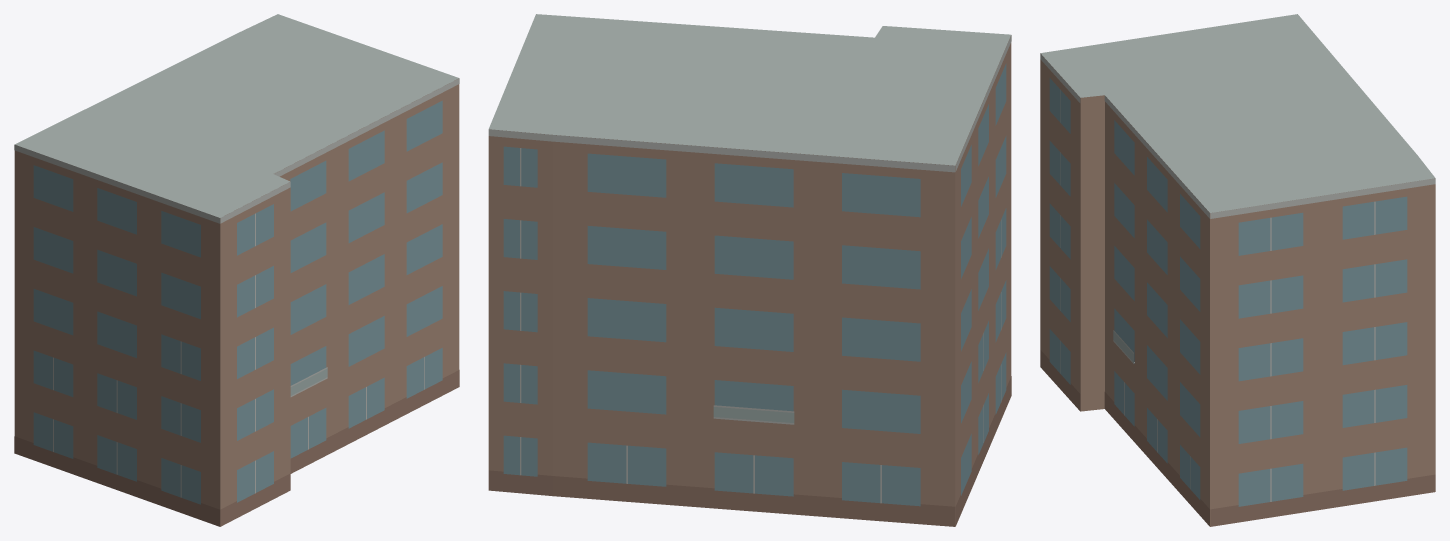
File: survey-upis-32947034.glb
3 renders of one model, left to right at view 1: azimuth 30°, elevation 25°; view 2: azimuth 150°, elevation 25°; view 3: azimuth 270°, elevation 25°, orthographic. The views are drawn at different scales.
Visible parts, largest first — view 1: survey-upis-32947034.tmp; view 2: survey-upis-32947034.tmp; view 3: survey-upis-32947034.tmp.
Part boxes in pixels (<box>): survey-upis-32947034.tmp: <box>14,14,459,526</box>; survey-upis-32947034.tmp: <box>488,14,1011,526</box>; survey-upis-32947034.tmp: <box>1040,14,1435,526</box>.
Bounding box in the file's own units: 17.64 × 12.95 × 14.8.
